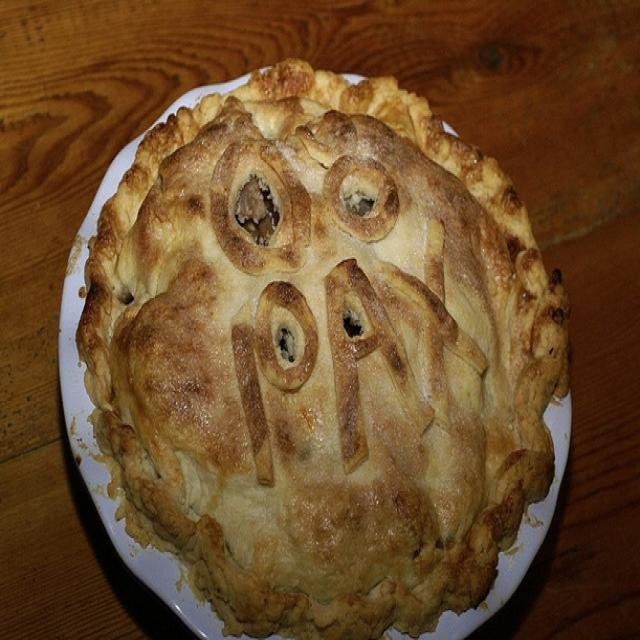炸货点心: (56, 39, 579, 604)
蛋糕甜品: (56, 39, 579, 604)
